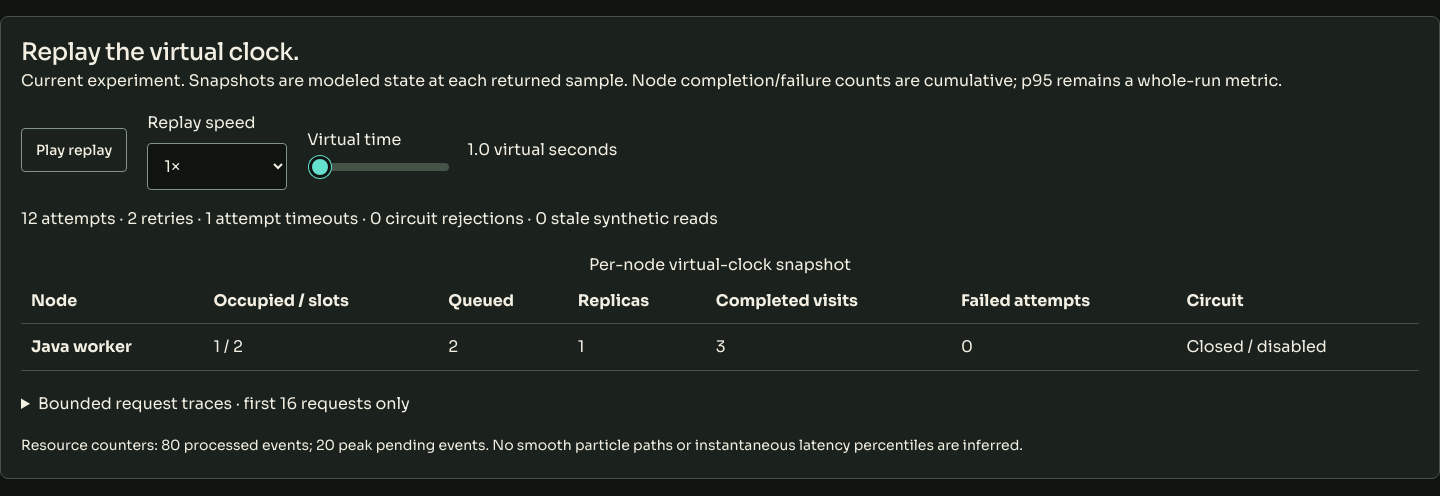
Scenario: bounded simulation presentation › plays returned sample steps and cleans up at the end
Step 1. Click the button "Play replay" → (74, 150), box [21,128,127,172]
Wait 2100 ms
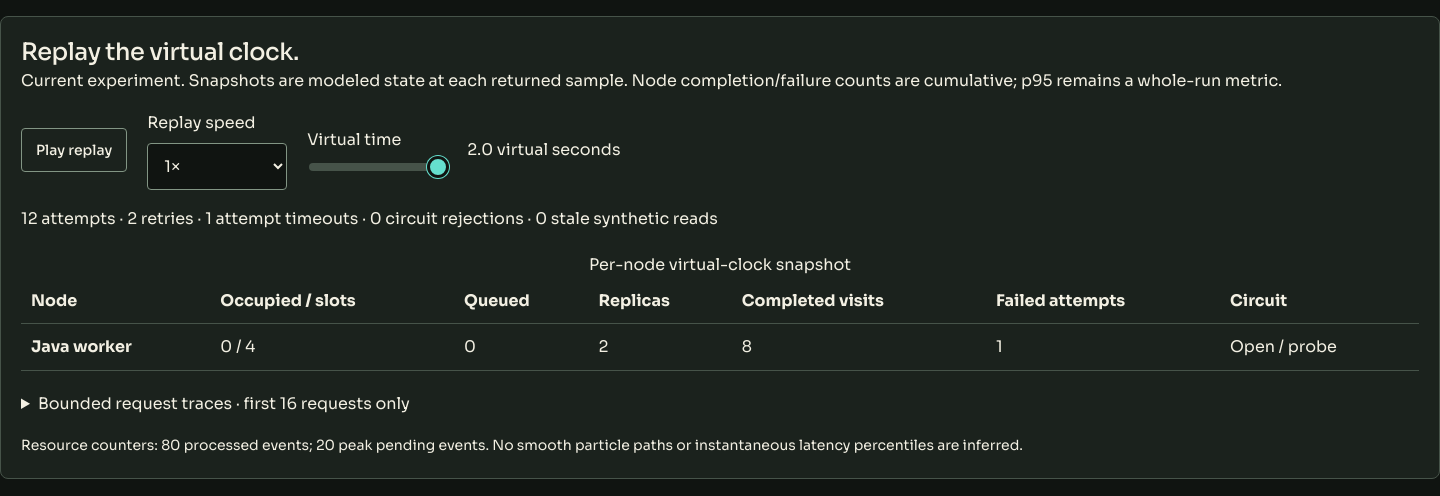
Now the text "2.0 virtual seconds" is shown, box [467,137,620,163]
